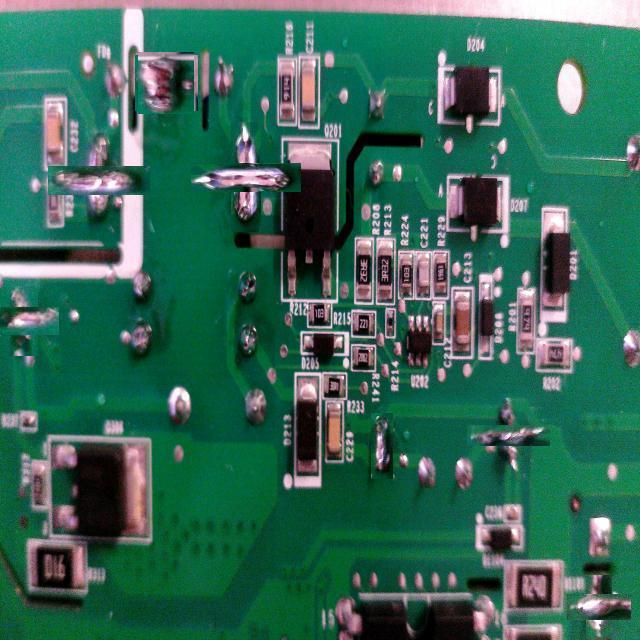Short_circuit: (212, 142, 282, 212), (66, 147, 132, 213), (137, 53, 196, 113), (483, 409, 535, 462), (0, 297, 49, 345), (576, 585, 622, 630), (371, 413, 393, 479)
